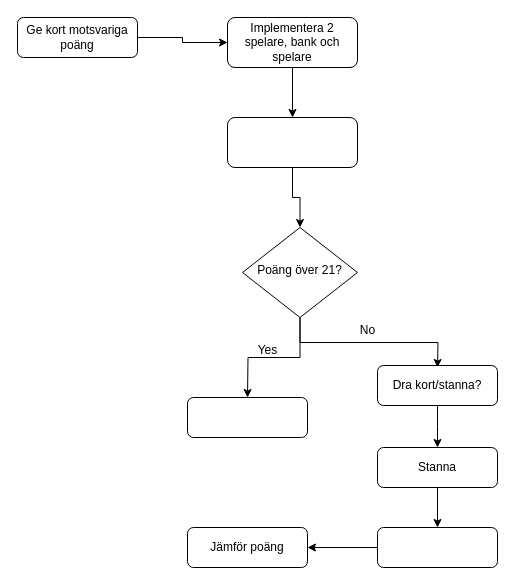
Some shapes in this 515 by 585 pixel diagram are drawn without their labels. Here are the shapes that lost their labels. From the top down, the centre of each, then its label:
At (292,142): "De kan dra kort från DeckOfCards och det sparas i deras hand".
At (247,417): "Tjock".
At (437,547): "Bankens Tur".
